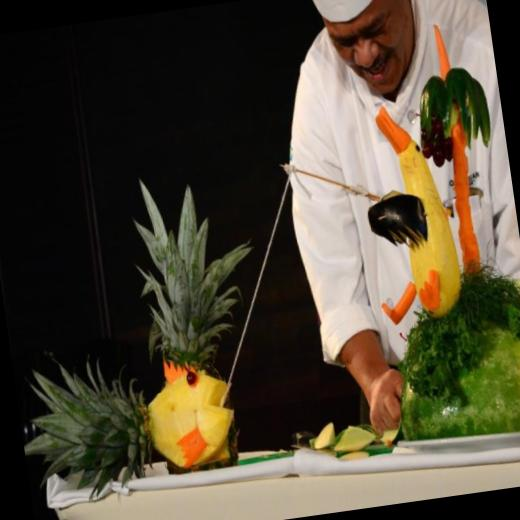Mango: (123, 162, 285, 474), (11, 332, 244, 508)
